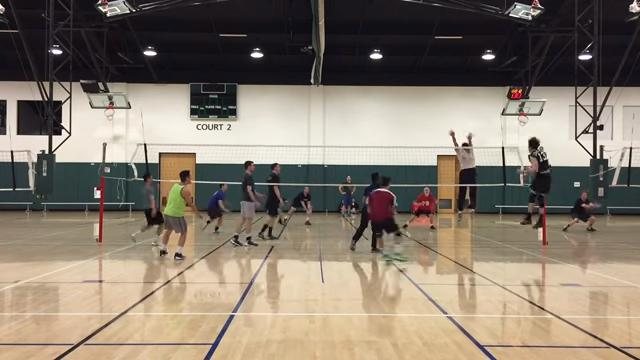Attack: (513, 133, 553, 231)
Block: (447, 126, 482, 218)
Player: (159, 170, 204, 259), (368, 176, 405, 260), (230, 161, 263, 245), (131, 173, 163, 241), (258, 163, 283, 239), (403, 187, 435, 228), (202, 184, 229, 232), (285, 187, 311, 224), (277, 197, 287, 224), (371, 236, 377, 251)
